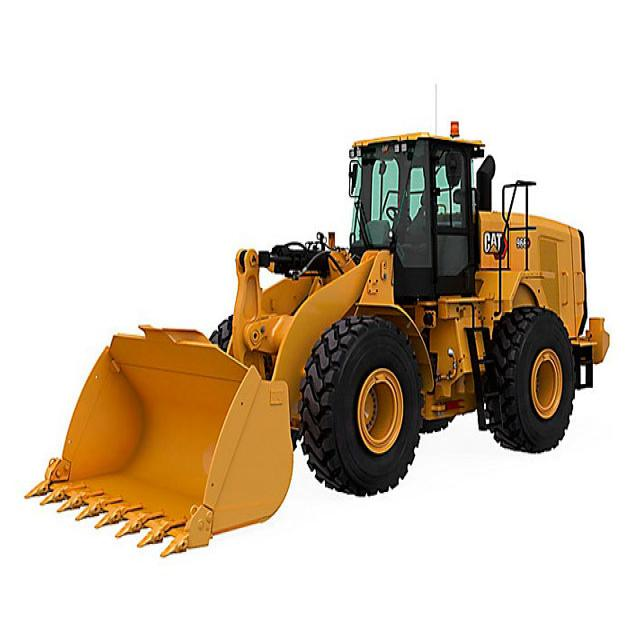buldozerpayloadergrader: (25, 123, 612, 559)
